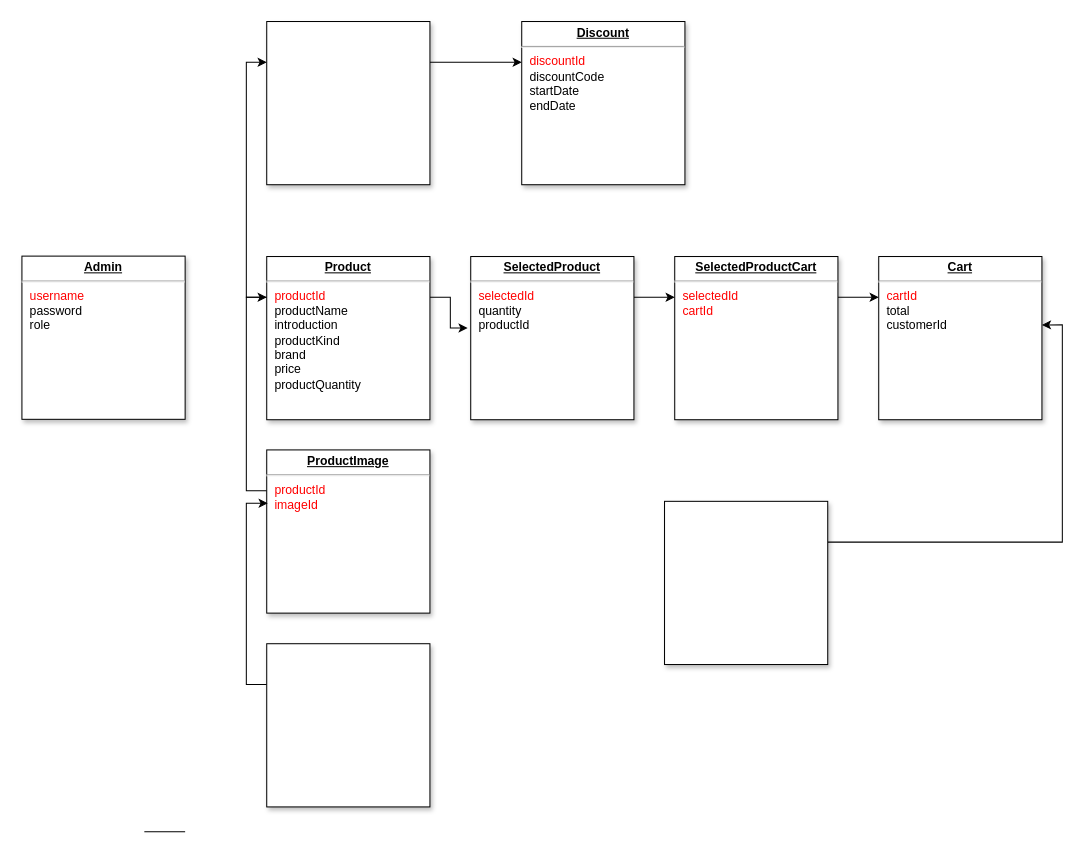
Some shapes in this 1088 by 855 pixel diagram are drawn without their labels. Each missing label, with the centre of its shape:
"Customer customerId firstName lastName address city email phone notes" goes at point (746, 584).
"Images imageId link" goes at point (349, 726).
"ProductDiscount productId discountId" goes at point (349, 104).
